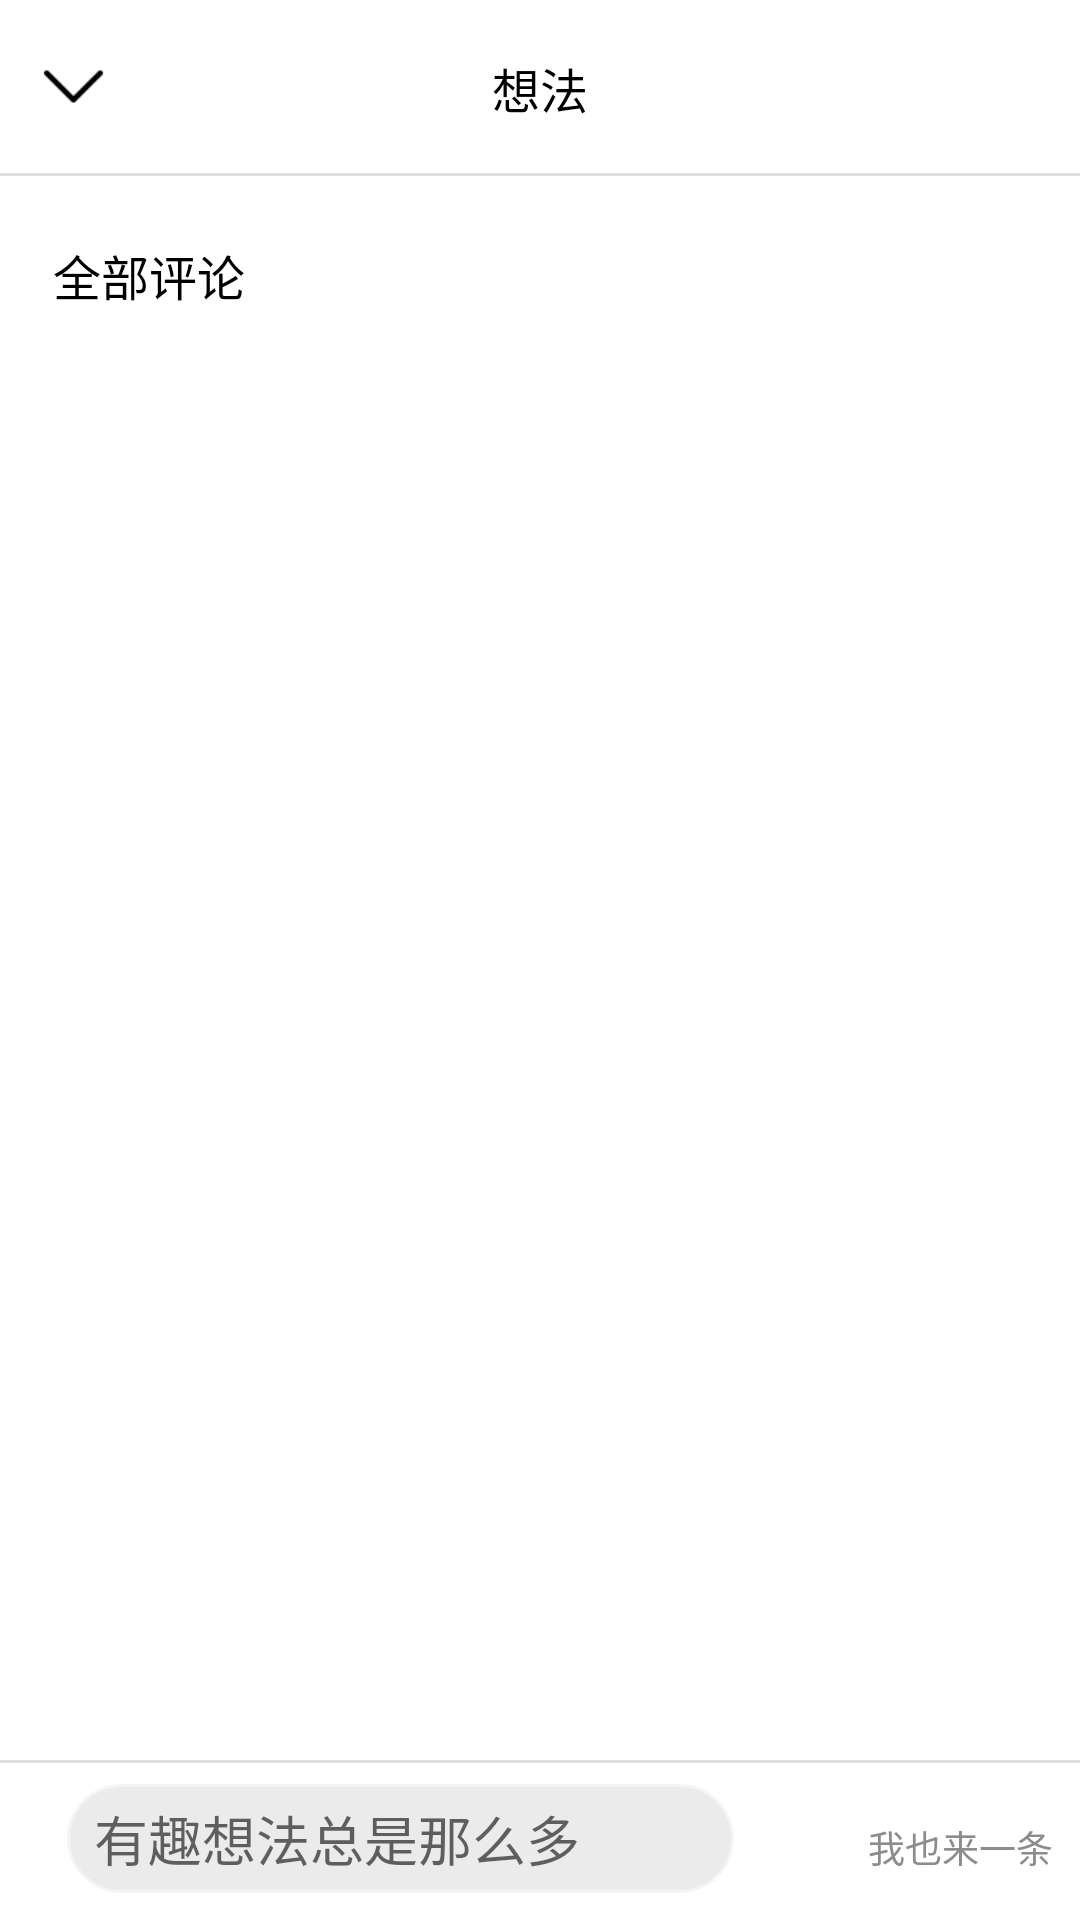

Icon bounding boxes for this 1080 x 1920 phone screenshot, format (x1, y1, x2, y2):
关闭: (43, 70, 104, 103)
